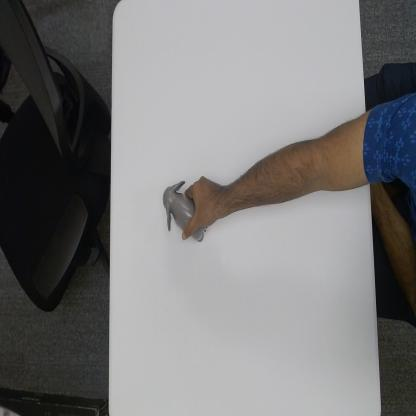Arm: (226, 110, 369, 218)
Elephant: (162, 178, 207, 244)
Hand: (180, 175, 224, 243)
